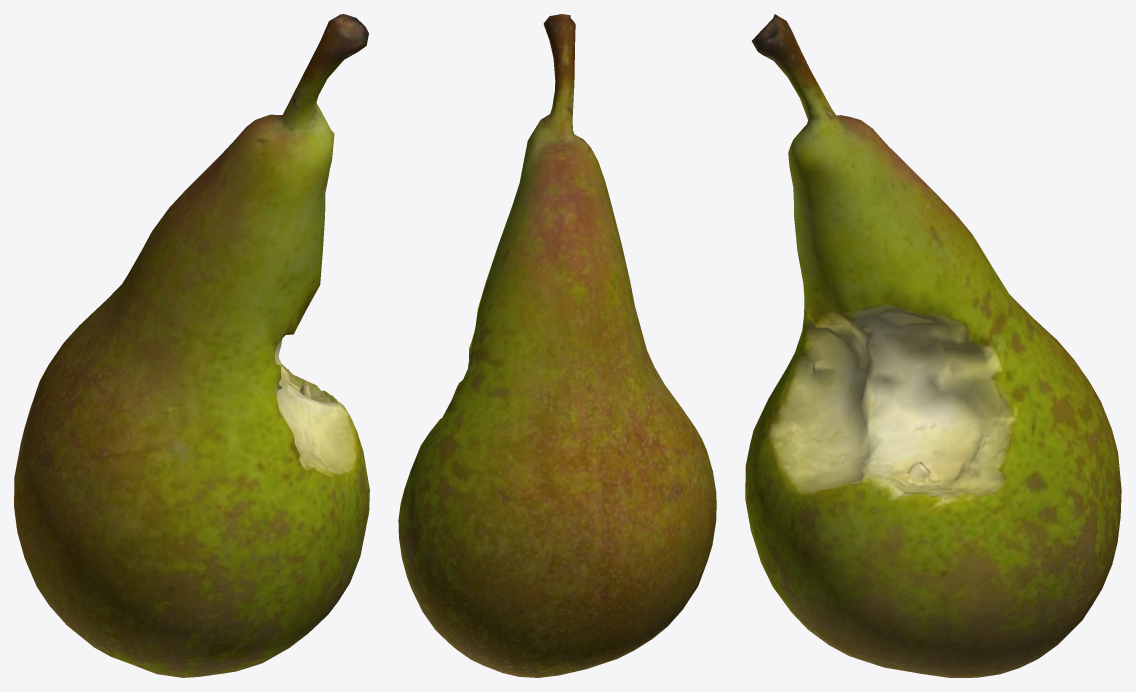
Rendered from pear_b.glb.
3 renders of one model, left to right at view 1: azimuth 30°, elevation 25°; view 2: azimuth 150°, elevation 25°; view 3: azimuth 270°, elevation 25°, orthographic. The views are drawn at different scales.
Parts seen in each view (by area): view 1: tezbbgrra_LOD0_TIER2_000; view 2: tezbbgrra_LOD0_TIER2_000; view 3: tezbbgrra_LOD0_TIER2_000.
Part boxes in pixels (left/top/right/bottom): tezbbgrra_LOD0_TIER2_000: left=14, top=14, right=369, bottom=677; tezbbgrra_LOD0_TIER2_000: left=398, top=14, right=716, bottom=677; tezbbgrra_LOD0_TIER2_000: left=745, top=14, right=1121, bottom=677.
Size of the model in its own units: 0.0698 by 0.1455 by 0.0739.
Materials: 1 (1 with a texture image).
